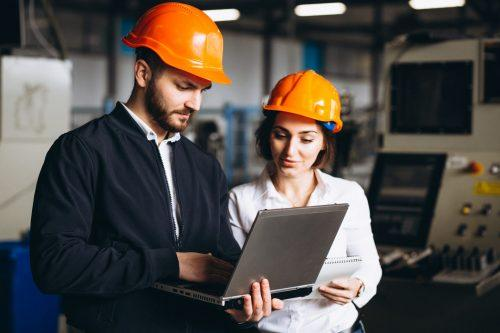helmet: (120, 1, 235, 86), (261, 69, 347, 138)
